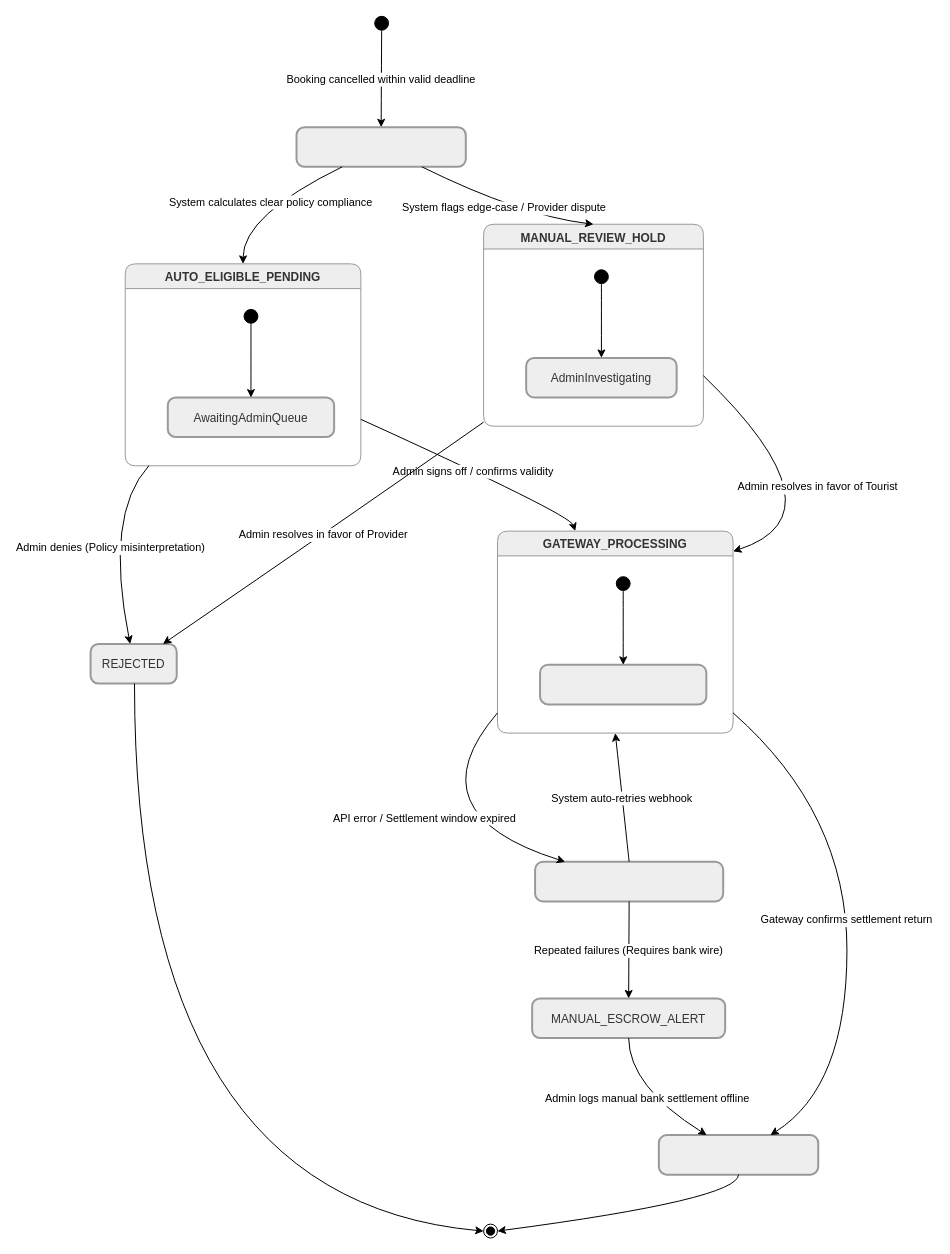
Image size: 950x1254. Some labels were removed from this diagram. The box of each missing label's shape, as (x1, y1, x2, y2) in pixels:
GATEWAY_FAILED_RETRY: (534, 860, 724, 902)
REQUEST_INITIALIZED: (295, 126, 466, 167)
ReverseAuthorization: (539, 663, 707, 705)
SUCCESS_REFUNDED: (657, 1134, 819, 1175)
